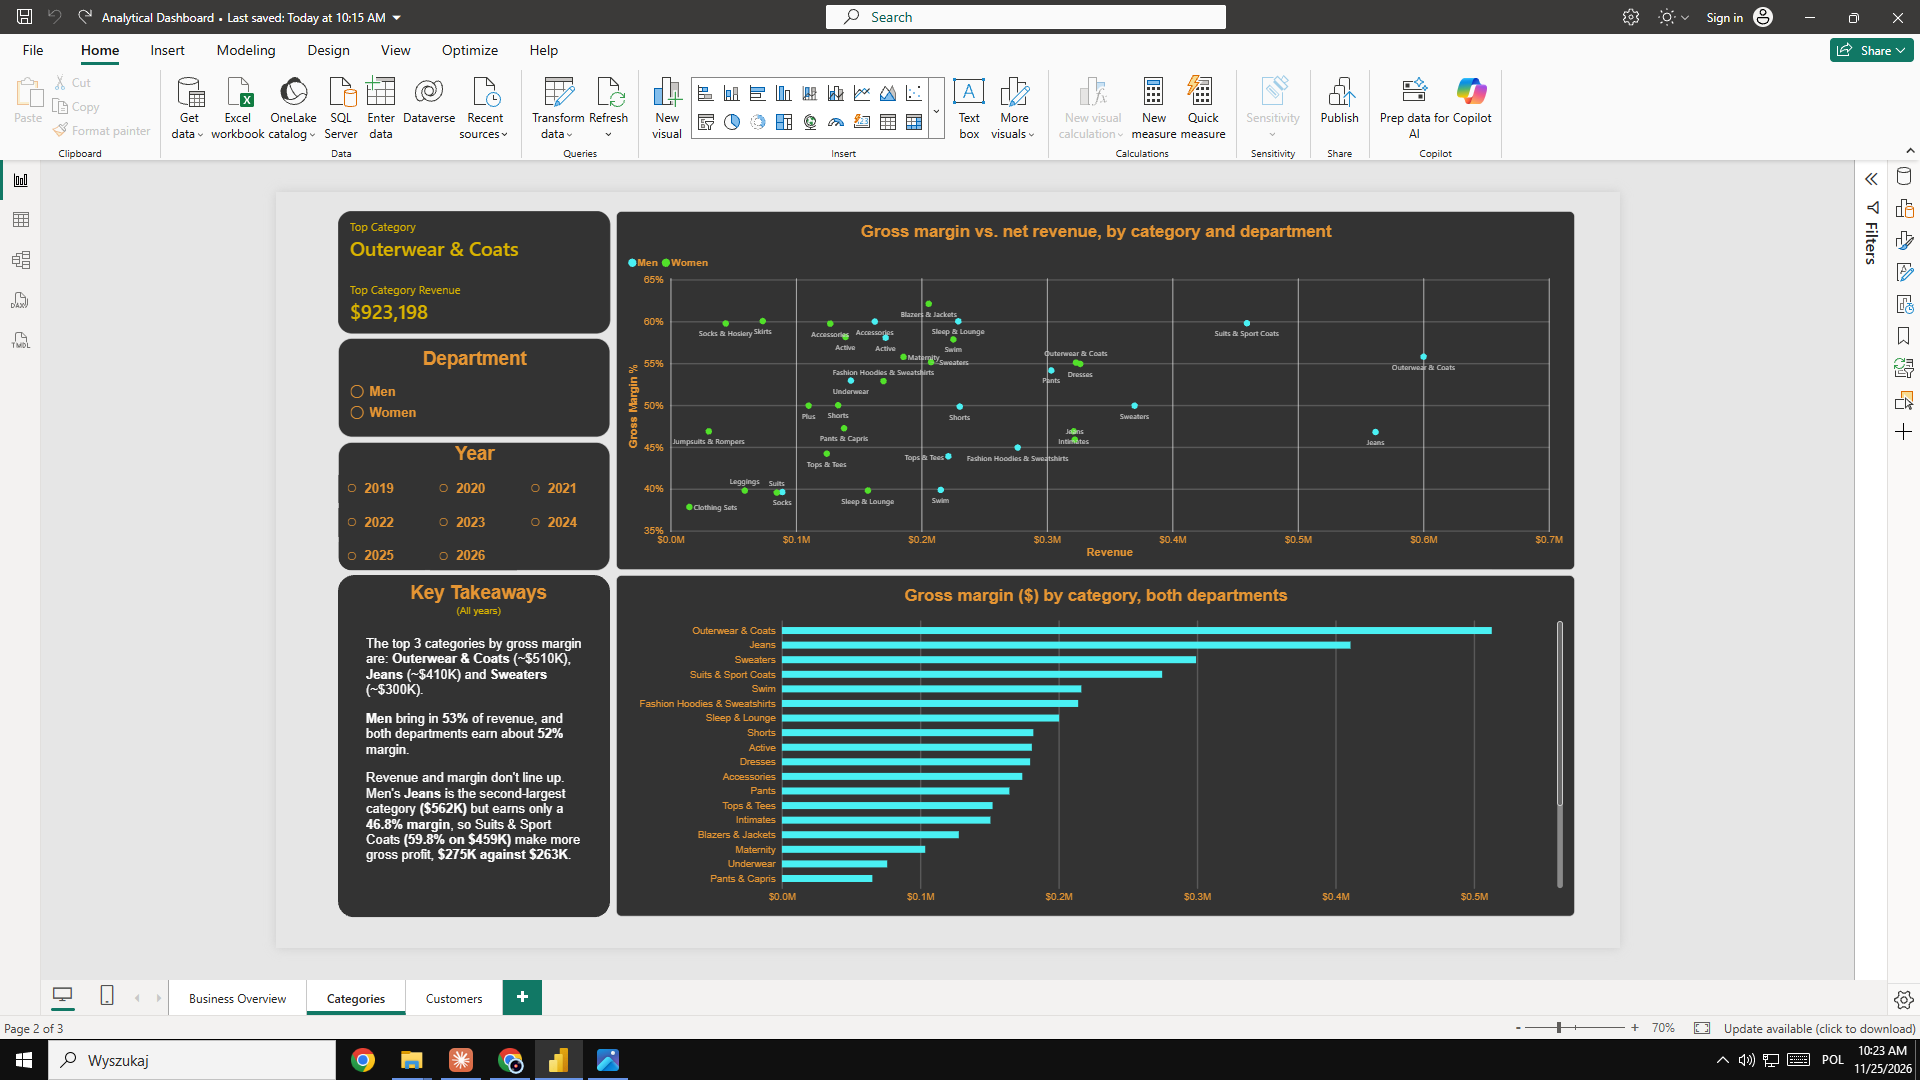

This screenshot's page, from the dashboard's own definition file:
{"tool":"powerbi","page":{"name":"Categories","canvas":[1920,1080],"ordinal":1},"visuals":[{"type":"scatterChart","title":"Gross margin vs. net revenue, by category and department","fields":{"Category":["Products Dim.category"],"Series":["Products Dim.department"],"X":["Measure Table.Net Revenue"],"Y":["Measure Table.Gross Margin %"]},"box":[485.3,27.2,1369.7,512.5],"z":0},{"type":"shape","title":"Key Takeaways","box":[88.1,547.3,388.6,489.1],"z":0,"group":"g1"},{"type":"clusteredBarChart","title":"Gross margin ($) by category, both departments","fields":{"Category":["Products Dim.category"],"Y":["Measure Table.Gross Margin"]},"box":[485.3,547.3,1369.7,488.3],"z":1000},{"type":"textbox","box":[156.1,557.5,264.6,77.1],"z":1000,"group":"g1"},{"type":"listSlicer","title":"Department","fields":{"Values":["Products Dim.department"]},"box":[89.2,208.6,388.5,142.1],"z":2000},{"type":"group","id":"g1","title":"Categories Key Takeaways Card","box":[88.1,547.3,388.6,489.1],"z":3000},{"type":"advancedSlicerVisual","fields":{"Values":["Dim_Date.Year Hierarchy.Year"]},"box":[89.2,356.8,388.5,184.4],"z":4000},{"type":"textbox","box":[127.5,634.6,316,350.7],"z":4001,"group":"g1"},{"type":"cardVisual","fields":{"Data":["Measure Table.Top Category","Measure Table.Top Category Revenue"]},"box":[89.2,27.2,388.5,175.4],"z":5000}]}

Visuals, with their boxes on the page's 1920x1080 design canvas (x1, y1, x2, y2). These are canvas units, not pixel positions in the 1920x1080 screenshot, which may show the page scaled, cropped or inside an application window:
"Gross margin vs. net revenue, by category and department" scatterChart: select_region(485, 27, 1855, 540)
"Key Takeaways" shape: select_region(88, 547, 477, 1036)
"Gross margin ($) by category, both departments" clusteredBarChart: select_region(485, 547, 1855, 1036)
textbox: select_region(156, 558, 421, 635)
"Department" listSlicer: select_region(89, 209, 478, 351)
"Categories Key Takeaways Card" group: select_region(88, 547, 477, 1036)
advancedSlicerVisual - Dim_Date.Year Hierarchy.Year: select_region(89, 357, 478, 541)
textbox: select_region(128, 635, 444, 985)
cardVisual - Measure Table.Top Category x Measure Table.Top Category Revenue: select_region(89, 27, 478, 203)
